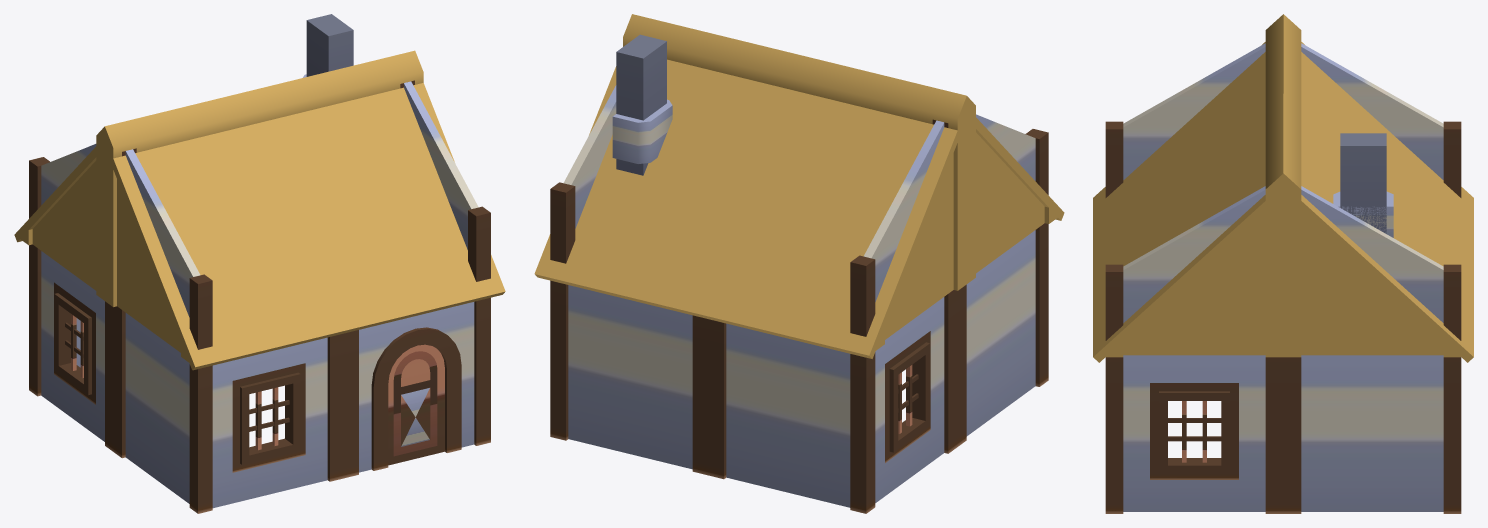
File: chaumiere-2.glb
3 renders of one model, left to right at view 1: azimuth 30°, elevation 25°; view 2: azimuth 150°, elevation 25°; view 3: azimuth 270°, elevation 25°, orthographic. The views are drawn at different scales.
Parts seen in each view (by area): view 1: roof-high, wall-window-shutters; view 2: roof-high, wall-window-shutters; view 3: wall-window-shutters, roof-high.
Part boxes in pixels (x1,y1,x2,y2): roof-high: [14, 50, 505, 370]; wall-window-shutters: [29, 14, 490, 513]; roof-high: [534, 14, 1064, 358]; wall-window-shutters: [550, 34, 1048, 513]; wall-window-shutters: [1105, 43, 1461, 513]; roof-high: [1093, 14, 1473, 362].
Size of the model in its own units: 6.36 by 6.6 by 6.42.
2 materials, 1 textured.
